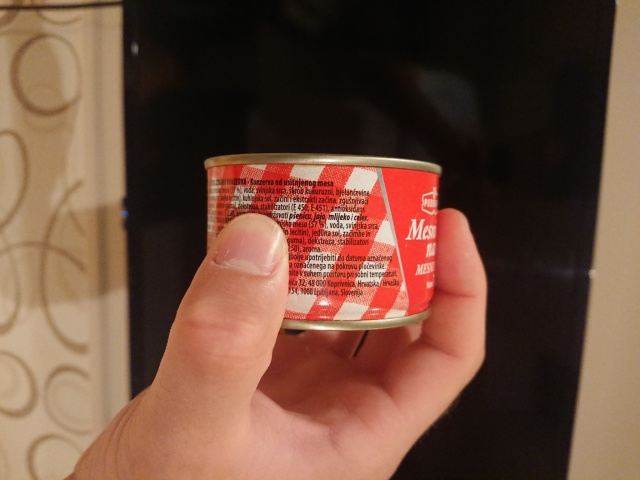Podravka Luncheon Meat 150g: (199, 148, 445, 336)
